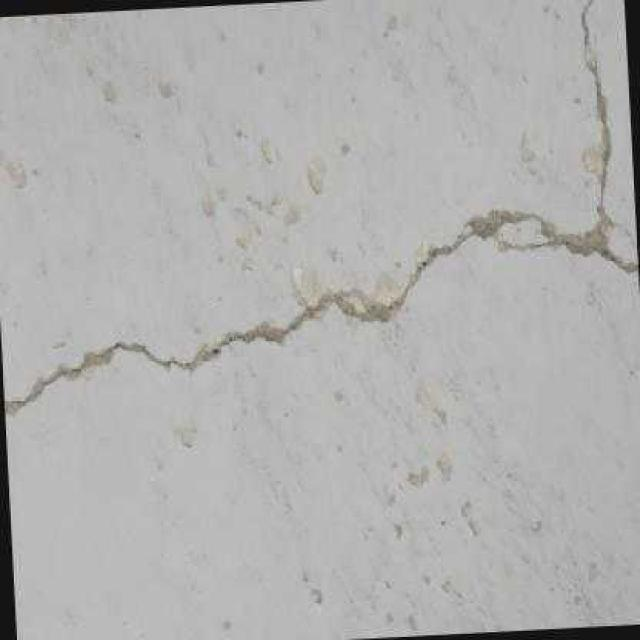D00: (3, 0, 639, 428)
